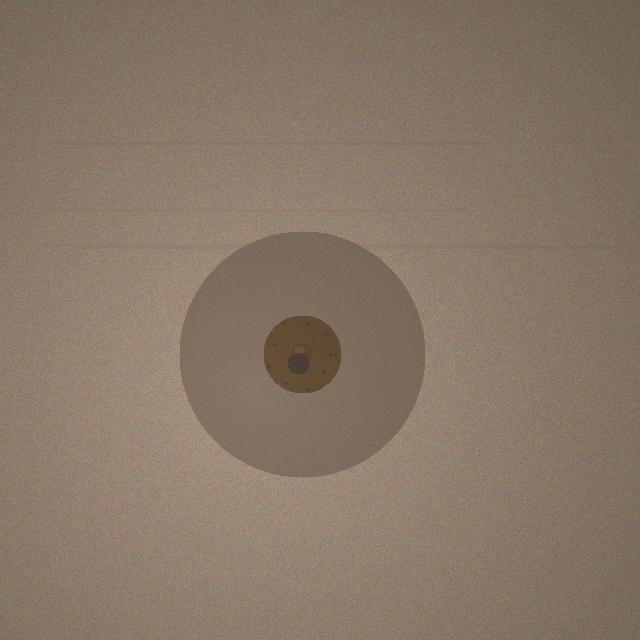cold_weld: (179, 231, 425, 477)
